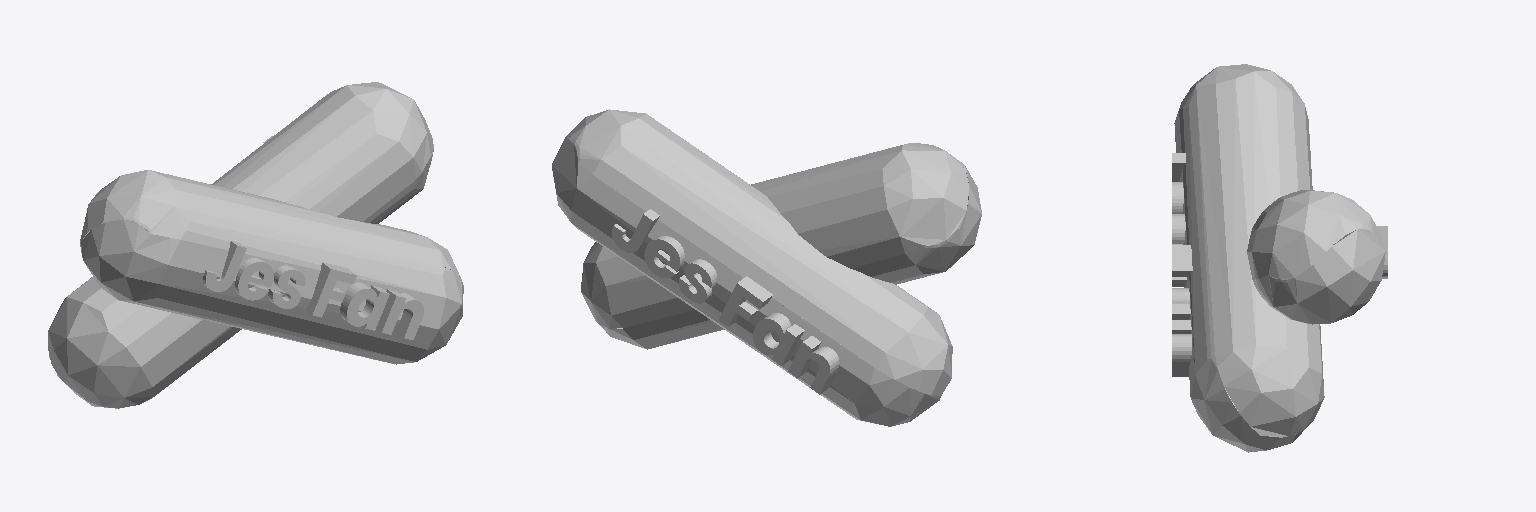
The model's file is JesFan.obj.
3 views of the same model, side by side, from view 1: azimuth 30°, elevation 25°; view 2: azimuth 150°, elevation 25°; view 3: azimuth 270°, elevation 25° (orthographic).
Visible parts, largest first — view 1: root_3, root_2, node_id346; view 2: root_2, root_3, node_id359; view 3: root_3, root_2, node_id346.
Part boxes in pixels (x1,y1,x2,y2): root_3: (80, 170, 463, 364); root_2: (48, 82, 433, 408); node_id346: (203, 241, 423, 339); root_2: (552, 109, 952, 426); root_3: (581, 143, 981, 349); node_id359: (612, 209, 838, 394); root_3: (1174, 64, 1324, 452); root_2: (1247, 190, 1385, 324); node_id346: (1172, 153, 1192, 376).
Bounding box in the file's own units: 0.289 × 0.1836 × 0.1427.